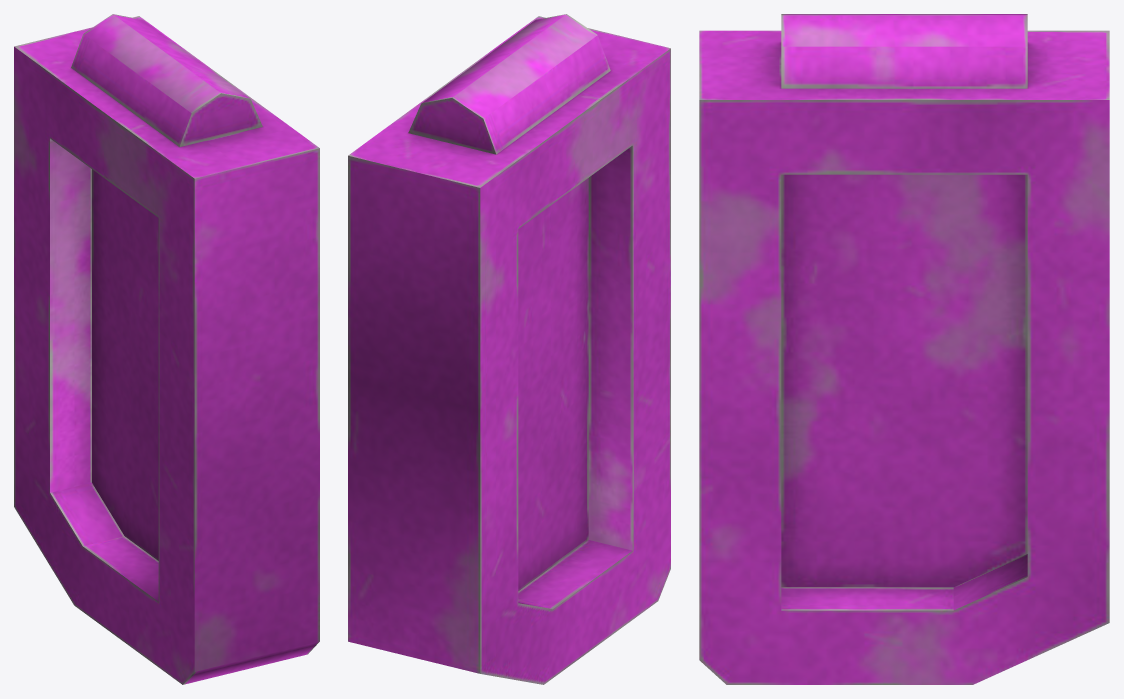
File: clip-large.glb
The picture shows the model from 3 angles, left to right: view 1: azimuth 30°, elevation 25°; view 2: azimuth 150°, elevation 25°; view 3: azimuth 270°, elevation 25°; orthographic projection. The views are drawn at different scales.
Parts seen in each view (by area): view 1: clip-large; view 2: clip-large; view 3: clip-large.
Part boxes in pixels (<box>): clip-large: <box>14,14,319,684</box>; clip-large: <box>348,14,670,684</box>; clip-large: <box>699,14,1109,684</box>.
Bounding box in the file's own units: 0.06 × 0.2558 × 0.15.
Materials: 1 (1 with a texture image).
